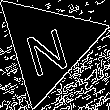N_N: (22, 15, 73, 75)
